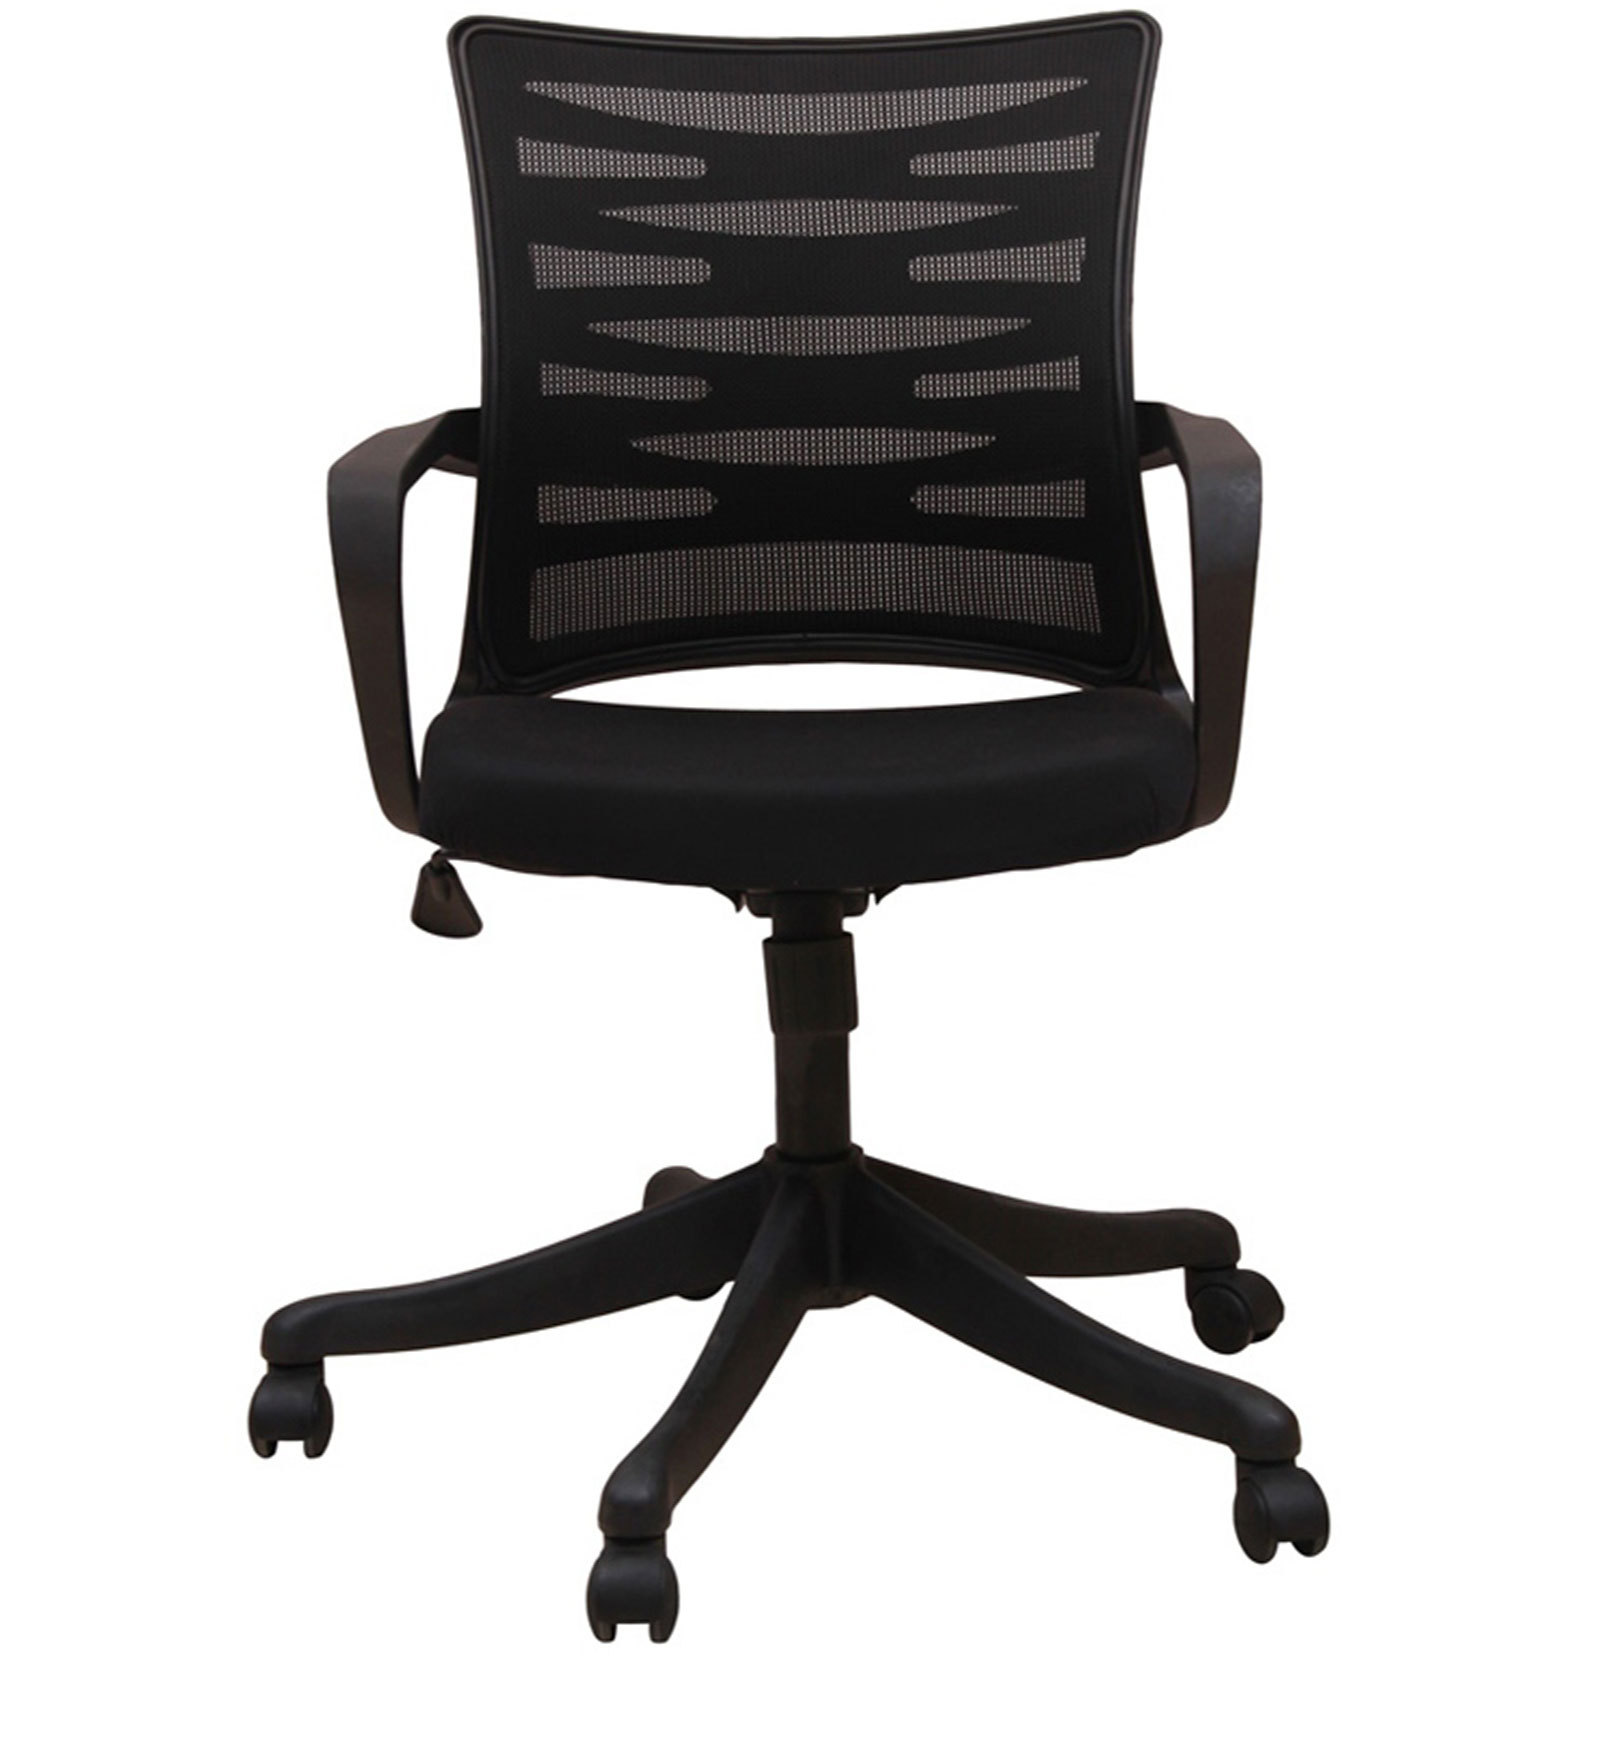Royal Mesh Ergonomic Chair in Black Colour by Adiko Systems: (202, 12, 1392, 1676)
